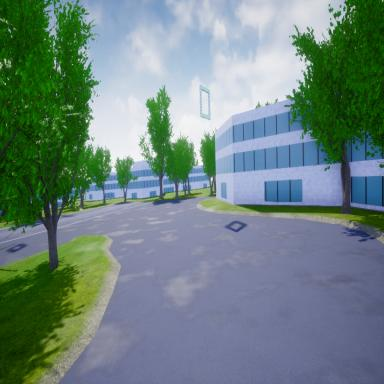gate: (198, 84, 212, 122)
